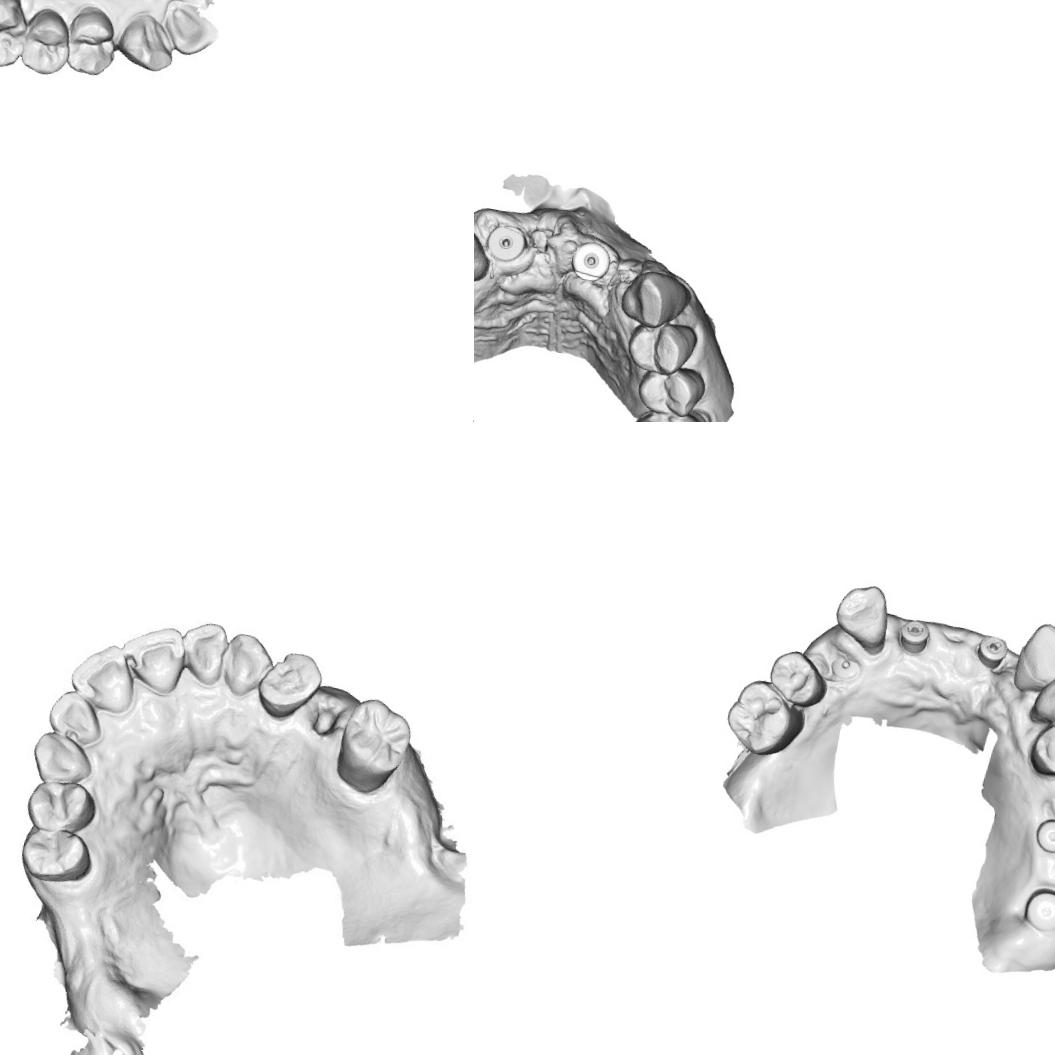canine: (616, 265, 694, 333), (830, 579, 894, 656), (23, 725, 98, 789), (116, 7, 176, 78), (218, 630, 274, 698), (1026, 662, 1055, 731), (474, 216, 495, 285)
implant: (567, 237, 614, 285), (482, 221, 530, 265), (1020, 884, 1055, 937), (828, 652, 861, 682), (1031, 816, 1055, 855)
implant_minus: (894, 616, 936, 657), (973, 632, 1010, 672)
incisor: (68, 641, 139, 712), (128, 622, 188, 687), (1009, 617, 1055, 698), (43, 689, 105, 747), (163, 0, 222, 59), (179, 623, 234, 686)
molar: (324, 694, 420, 801), (720, 674, 810, 762), (0, 0, 32, 72), (625, 397, 715, 422)
premolar: (251, 644, 326, 726), (622, 314, 699, 380), (15, 822, 92, 888), (59, 2, 124, 79), (14, 1, 78, 79), (633, 358, 709, 420), (763, 645, 831, 710), (24, 776, 89, 834), (1024, 715, 1055, 783)
